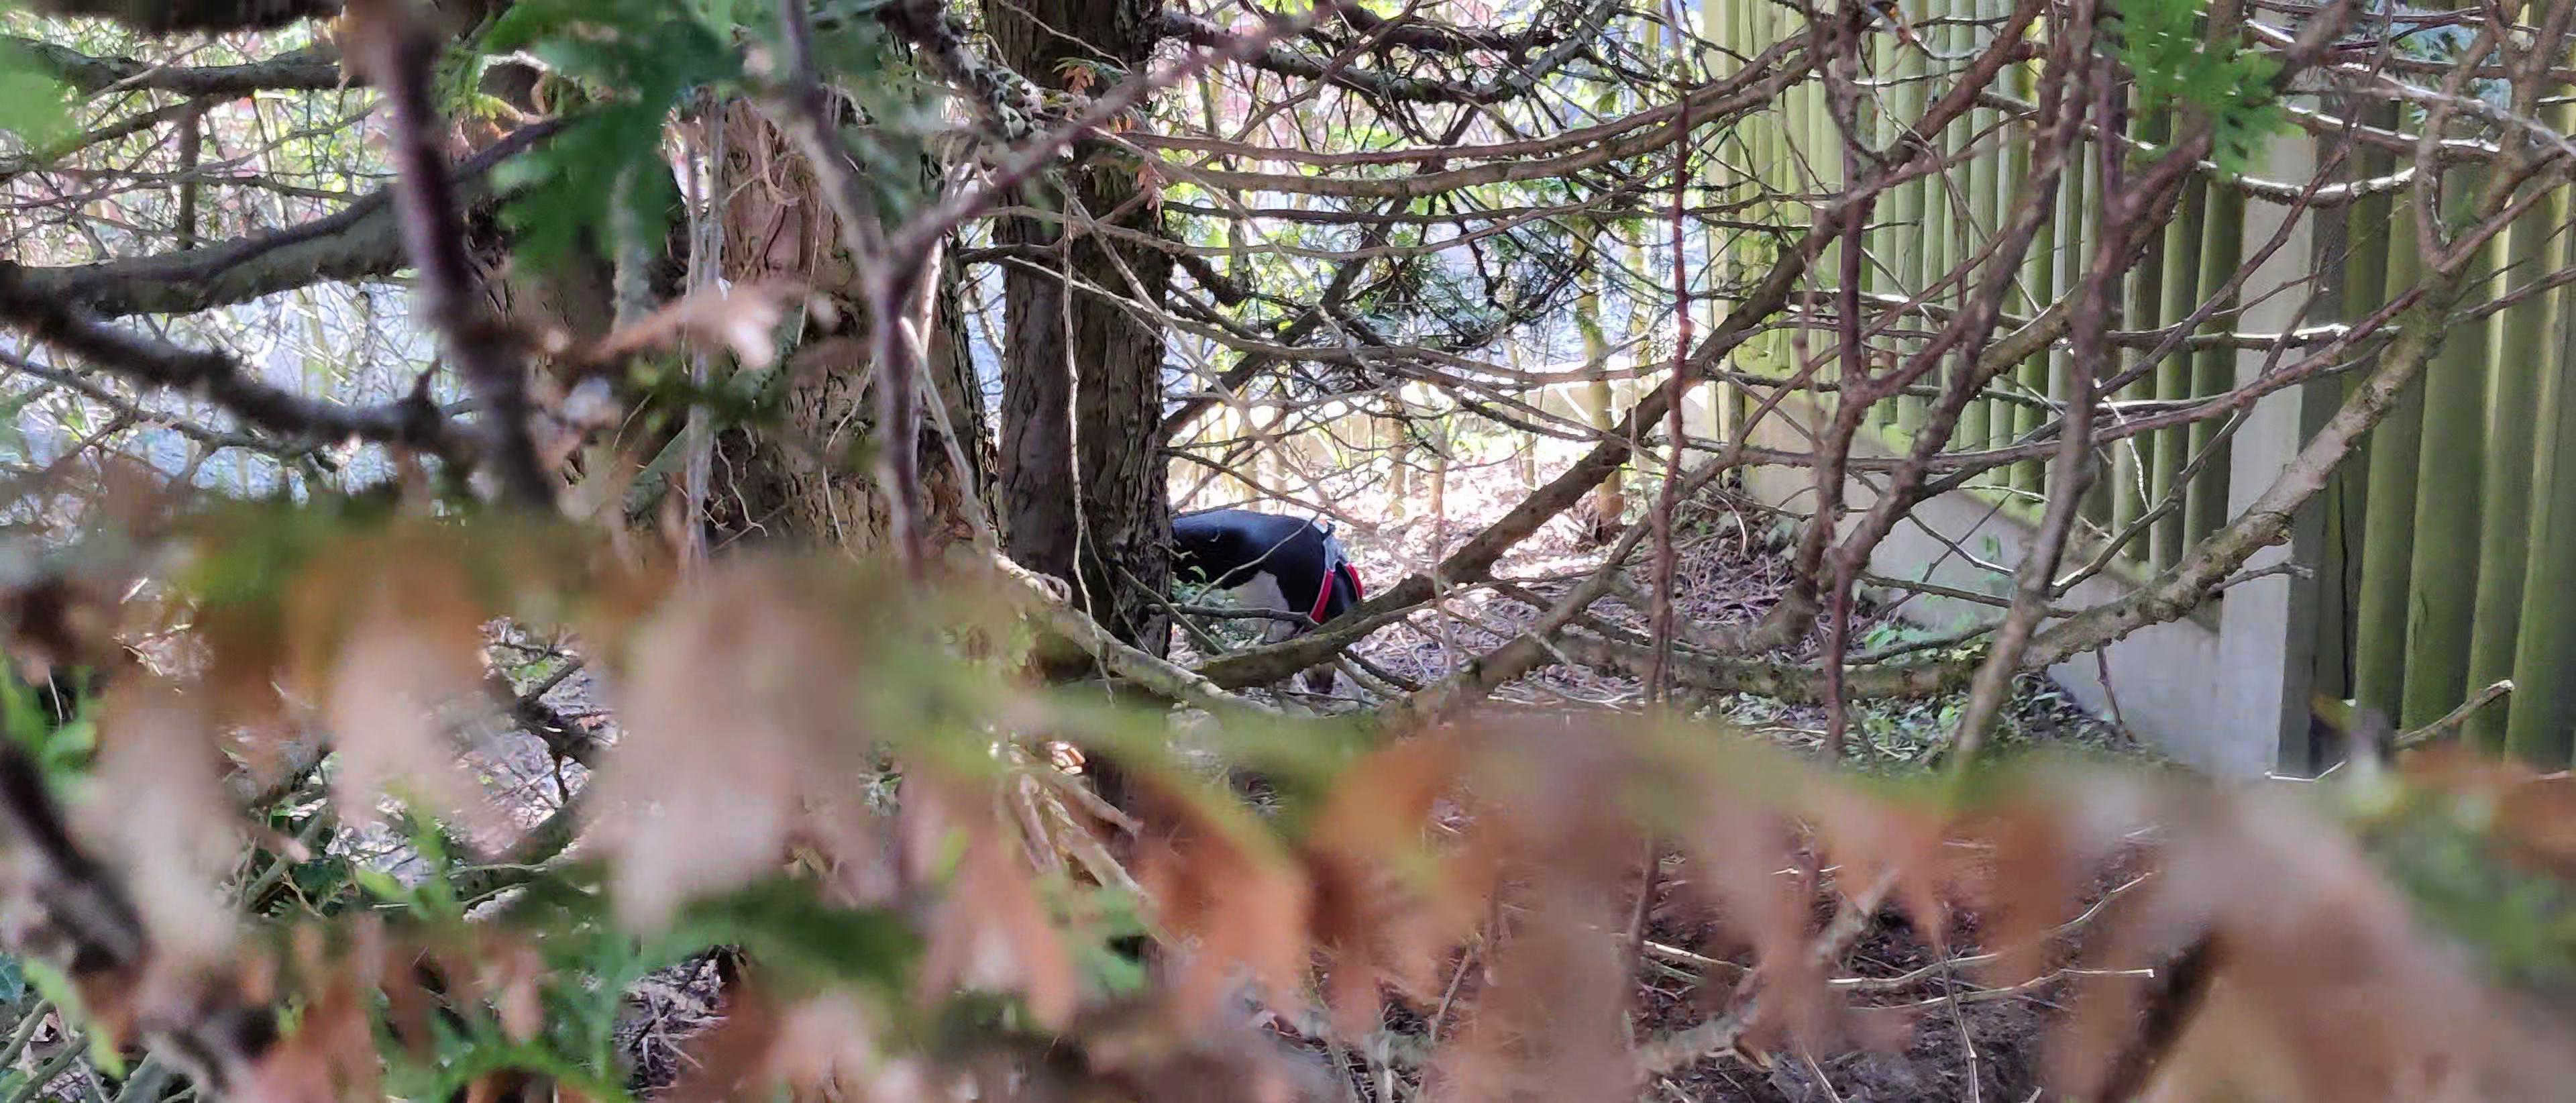Dog: (1134, 501, 1375, 730)
